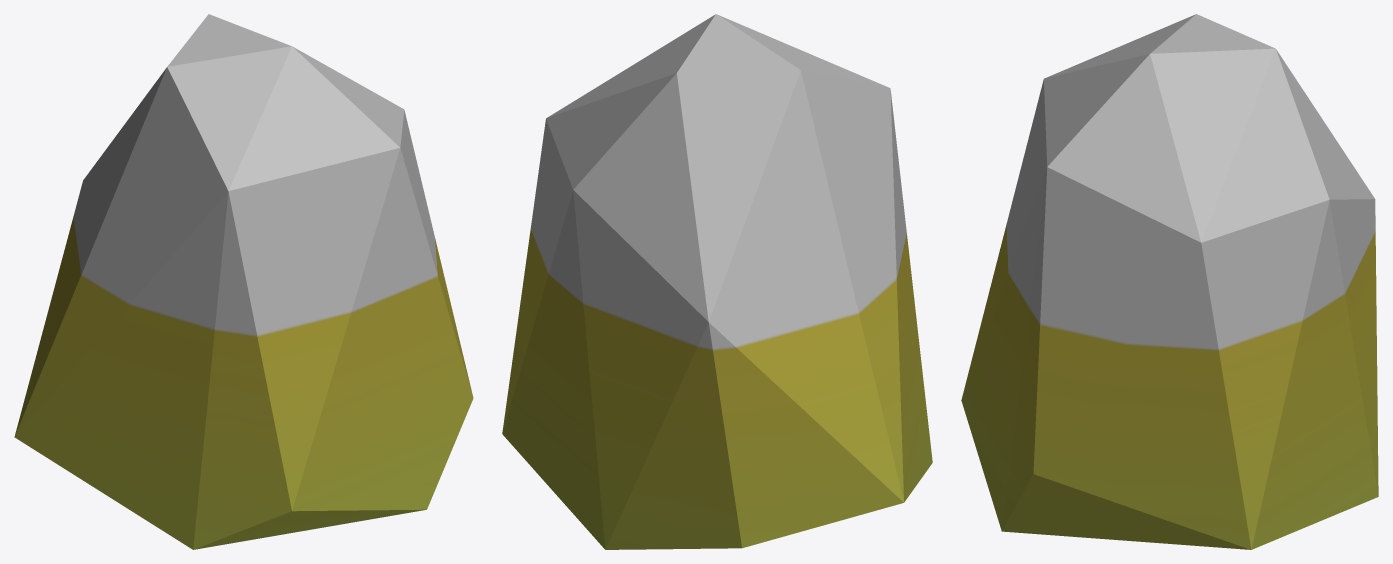
File: Rock_05.fbx
The picture shows the model from 3 angles, left to right: view 1: azimuth 30°, elevation 25°; view 2: azimuth 150°, elevation 25°; view 3: azimuth 270°, elevation 25°; orthographic projection. The views are drawn at different scales.
Parts seen in each view (by area): view 1: Rock_05; view 2: Rock_05; view 3: Rock_05.
Part boxes in pixels (x1,y1,x2,y2): Rock_05: (14,14,473,549); Rock_05: (502,14,932,549); Rock_05: (961,14,1378,549).
Size of the model in its own units: 2.13 by 2.27 by 1.93.
